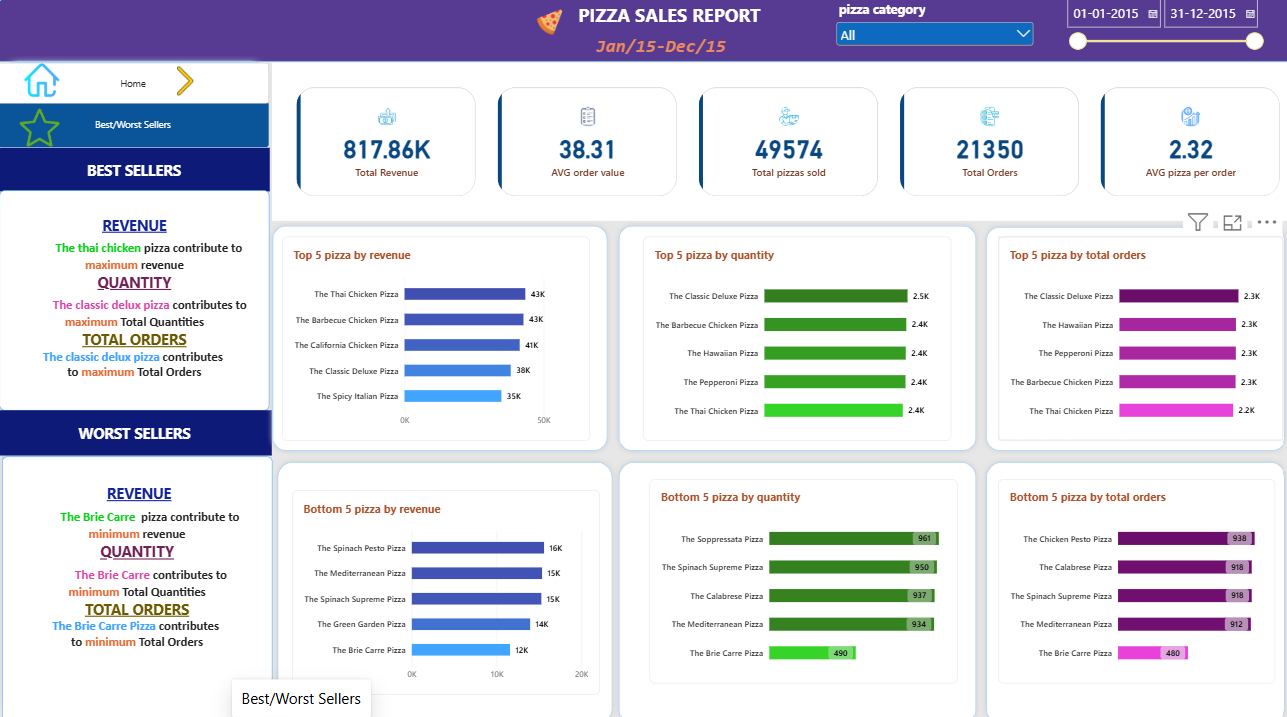

This screenshot's page, from the dashboard's own definition file:
{"tool":"powerbi","page":{"name":"Best/Worst  Sellers","canvas":[1920,1080],"ordinal":1},"visuals":[{"type":"cardVisual","fields":{"Data":["pizza_sales_CSV_file.Total Revenue","pizza_sales_CSV_file.AVG order value","pizza_sales_CSV_file.Total pizzas sold","pizza_sales_CSV_file.Total Orders","pizza_sales_CSV_file.AVG pizza per order"]},"box":[403.5,100.9,1516.9,232.9],"z":0},{"type":"shape","box":[0,0,1920.5,99],"z":1000},{"type":"textbox","box":[790.2,12.1,392.5,45.9],"z":2000},{"type":"textbox","box":[836.1,60.9,275.1,40.4],"z":3000},{"type":"image","box":[750.2,22,121.1,38.5],"z":4000},{"type":"shape","box":[0,89.9,403.5,981.3],"z":5000},{"type":"textbox","box":[1.8,225.6,398,64.2],"z":6000},{"type":"textbox","box":[3.7,288,396.2,322.8],"z":7000},{"type":"textbox","box":[0,610.8,403.5,66],"z":8000},{"type":"textbox","box":[6.7,678.3,396.7,393.3],"z":9000},{"type":"slicer","fields":{"Values":["pizza_sales_CSV_file.pizza_category"]},"box":[1227.1,9.2,299,80.7],"z":10000},{"type":"slicer","fields":{"Values":["pizza_sales_CSV_file.order_date"]},"box":[1562.8,1.8,299,99],"z":11000},{"type":"shape","box":[396.3,331.5,507.4,346.3],"z":12000},{"type":"shape","box":[903.7,331.5,540.7,346.3],"z":13000},{"type":"shape","box":[1444.4,333.3,455.6,344.4],"z":14000},{"type":"shape","box":[403.7,677.8,507.4,401.9],"z":15000},{"type":"shape","box":[903.7,677.8,540.7,401.9],"z":16000},{"type":"shape","box":[1444.4,677.8,455.6,401.9],"z":17000},{"type":"barChart","title":"Top 5 pizza by revenue","fields":{"Category":["pizza_sales_CSV_file.pizza_name"],"Y":["pizza_sales_CSV_file.Total Revenue"]},"box":[418.5,355.6,451.9,300],"z":18000},{"type":"barChart","title":"Bottom 5 pizza by revenue","fields":{"Category":["pizza_sales_CSV_file.pizza_name"],"Y":["pizza_sales_CSV_file.Total Revenue"]},"box":[432,728,451.9,300],"z":19000},{"type":"barChart","title":"Top 5 pizza by quantity","fields":{"Category":["pizza_sales_CSV_file.pizza_name"],"Y":["pizza_sales_CSV_file.Total pizzas sold"]},"box":[948,356,451.9,300],"z":20000},{"type":"barChart","title":"Bottom 5 pizza by quantity","fields":{"Category":["pizza_sales_CSV_file.pizza_name"],"Y":["pizza_sales_CSV_file.Total pizzas sold"]},"box":[958.3,711.7,451.9,300],"z":21000},{"type":"barChart","title":"Top 5 pizza by total orders","fields":{"Category":["pizza_sales_CSV_file.pizza_name"],"Y":["pizza_sales_CSV_file.Total Orders"]},"box":[1468.3,355,420,300],"z":22000},{"type":"barChart","title":"Bottom 5 pizza by total orders","fields":{"Category":["pizza_sales_CSV_file.pizza_name"],"Y":["pizza_sales_CSV_file.Total Orders"]},"box":[1468.3,711.7,406.7,300],"z":23000},{"type":"pageNavigator","box":[0,157.7,399.9,67.9],"z":24000},{"type":"pageNavigator","box":[0,100.9,399.9,60.5],"z":25000},{"type":"image","box":[229.3,106.4,93.5,42.2],"z":26000},{"type":"image","box":[20.2,100.9,91.7,51.4],"z":27000},{"type":"image","box":[3.7,166.9,117.4,58.7],"z":28000}]}

Visuals, with their boxes in screenshot pixels (x1, y1, x2, y2), scaled from the page's 1920x1080 canvas onto the 1287x717 screenshot:
cardVisual - pizza_sales_CSV_file.Total Revenue x pizza_sales_CSV_file.AVG order value: [270,67,1286,222]
shape: [0,0,1286,66]
textbox: [530,8,793,39]
textbox: [560,40,745,67]
image: [503,15,584,40]
shape: [0,60,270,711]
textbox: [1,150,268,192]
textbox: [2,191,268,406]
textbox: [0,406,270,449]
textbox: [4,450,270,711]
slicer - pizza_sales_CSV_file.pizza_category: [823,6,1023,60]
slicer - pizza_sales_CSV_file.order_date: [1048,1,1248,67]
shape: [266,220,606,450]
shape: [606,220,968,450]
shape: [968,221,1274,450]
shape: [271,450,611,716]
shape: [606,450,968,716]
shape: [968,450,1274,716]
"Top 5 pizza by revenue" barChart: [281,236,583,435]
"Bottom 5 pizza by revenue" barChart: [290,483,592,682]
"Top 5 pizza by quantity" barChart: [635,236,938,436]
"Bottom 5 pizza by quantity" barChart: [642,472,945,672]
"Top 5 pizza by total orders" barChart: [984,236,1266,435]
"Bottom 5 pizza by total orders" barChart: [984,472,1257,672]
pageNavigator: [0,105,268,150]
pageNavigator: [0,67,268,107]
image: [154,71,216,99]
image: [14,67,75,101]
image: [2,111,81,150]
